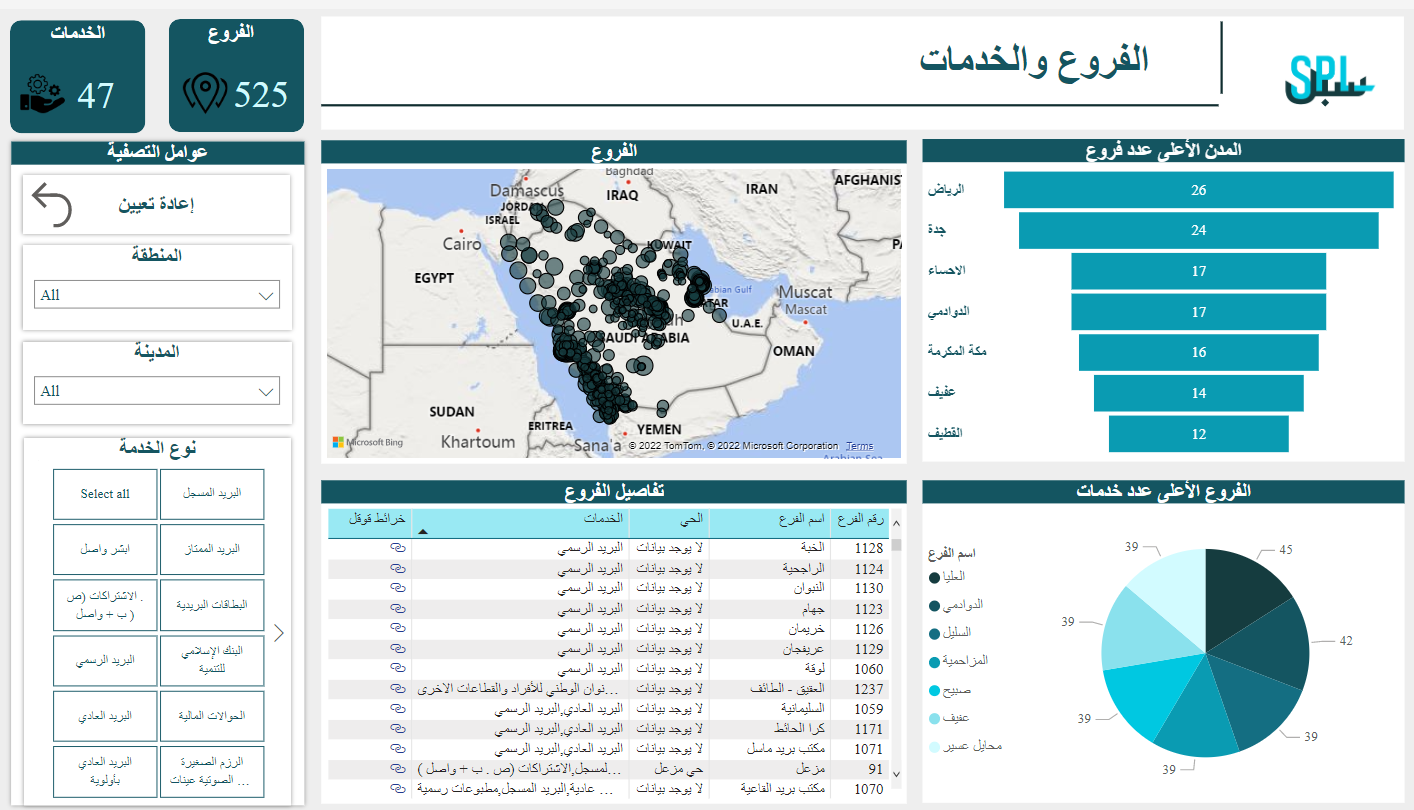

What the dashboard file says about the page in this screenshot:
{"tool":"powerbi","page":{"name":"الفروع والخدمات","canvas":[1280,720],"ordinal":0},"visuals":[{"type":"shape","box":[13.8,10,121.2,101.2],"z":0},{"type":"shape","box":[155.7,8.6,121.4,101.4],"z":1000},{"type":"shape","box":[292.9,7.1,972.1,101.4],"z":2000},{"type":"card","title":"الفروع","fields":{"Values":["CountNonNull(معلومات المكاتب.رقم الفرع)"]},"box":[186.8,11,105.8,107.1],"z":3000},{"type":"card","title":"الخدمات","fields":{"Values":["Count(الخدمات في المكاتب.نوع الخدمة)"]},"box":[45.3,12.4,92,107.1],"z":4000},{"type":"tableEx","title":"تفاصيل الفروع","fields":{"Values":["معلومات المكاتب.google_maps","معلومات المكاتب.الخدمات","معلومات المكاتب.الحي","معلومات المكاتب.اسم الفرع","معلومات المكاتب.رقم الفرع"]},"box":[293.1,423.3,525.8,290.7],"z":5000},{"type":"textbox","box":[824.9,21.7,249.6,90.5],"z":6000},{"type":"map","title":"الفروع","fields":{"X":["معلومات المكاتب.X_Google"],"Y":["معلومات المكاتب.Y_Google"],"Size":["Sum(معلومات المكاتب.عدد الخدمات)"]},"box":[293.1,118.2,525.8,290.7],"z":7000},{"type":"shape","box":[14.3,118.6,263.1,596.2],"z":8000},{"type":"pieChart","title":"الفروع الأعلى عدد خدمات","fields":{"Category":["معلومات المكاتب.اسم الفرع"],"Y":["Sum(معلومات المكاتب.عدد الخدمات)"]},"box":[832.2,423.3,433,289.4],"z":9000},{"type":"funnel","title":"المدن الأعلى عدد فروع","fields":{"Category":["معلومات المكاتب.اسم المدينة"],"Y":["CountNonNull(معلومات المكاتب.رقم الفرع)"]},"box":[832.2,117,433,289.4],"z":10000},{"type":"slicer","title":"المنطقة","fields":{"Values":["معلومات المكاتب.اسم المنطقة"]},"box":[25.1,212,241.2,76],"z":11000},{"type":"slicer","title":"المدينة","fields":{"Values":["معلومات المكاتب.اسم المدينة"]},"box":[25.1,298.9,241.2,74.8],"z":12000},{"type":"slicer","title":"نوع الخدمة","fields":{"Values":["الخدمات في المكاتب.نوع الخدمة"]},"box":[25.8,384.7,240,330],"z":13000},{"type":"textbox","title":"عوامل التصفية","box":[14.3,118.6,263.1,30],"z":14000},{"type":"actionButton","box":[25.1,149.3,240,53.1],"z":15000},{"type":"image","box":[1140.9,8.2,109.7,108.5],"z":16000},{"type":"shape","box":[293.1,62.7,805.6,47],"z":17000},{"type":"shape","box":[980.8,10.8,240.8,65],"z":18000},{"type":"image","box":[163.4,46.7,49.4,56.3],"z":19000},{"type":"image","box":[17.9,46.7,50,58],"z":20000}]}

Visuals, with their boxes in screenshot pixels (x1, y1, x2, y2), scaled from the page's 1280x720 canvas onto the 1414x810 screenshot:
shape: bbox=(15, 11, 149, 125)
shape: bbox=(172, 10, 306, 124)
shape: bbox=(324, 8, 1397, 122)
"الفروع" card: bbox=(206, 12, 323, 133)
"الخدمات" card: bbox=(50, 14, 152, 134)
"تفاصيل الفروع" tableEx: bbox=(324, 476, 905, 803)
textbox: bbox=(911, 24, 1187, 126)
"الفروع" map: bbox=(324, 133, 905, 460)
shape: bbox=(16, 133, 306, 804)
"الفروع الأعلى عدد خدمات" pieChart: bbox=(919, 476, 1398, 802)
"المدن الأعلى عدد فروع" funnel: bbox=(919, 132, 1398, 457)
"المنطقة" slicer: bbox=(28, 238, 294, 324)
"المدينة" slicer: bbox=(28, 336, 294, 420)
"نوع الخدمة" slicer: bbox=(29, 433, 294, 804)
"عوامل التصفية" textbox: bbox=(16, 133, 306, 167)
actionButton: bbox=(28, 168, 293, 228)
image: bbox=(1260, 9, 1382, 131)
shape: bbox=(324, 71, 1214, 123)
shape: bbox=(1083, 12, 1349, 85)
image: bbox=(181, 53, 235, 116)
image: bbox=(20, 53, 75, 118)
